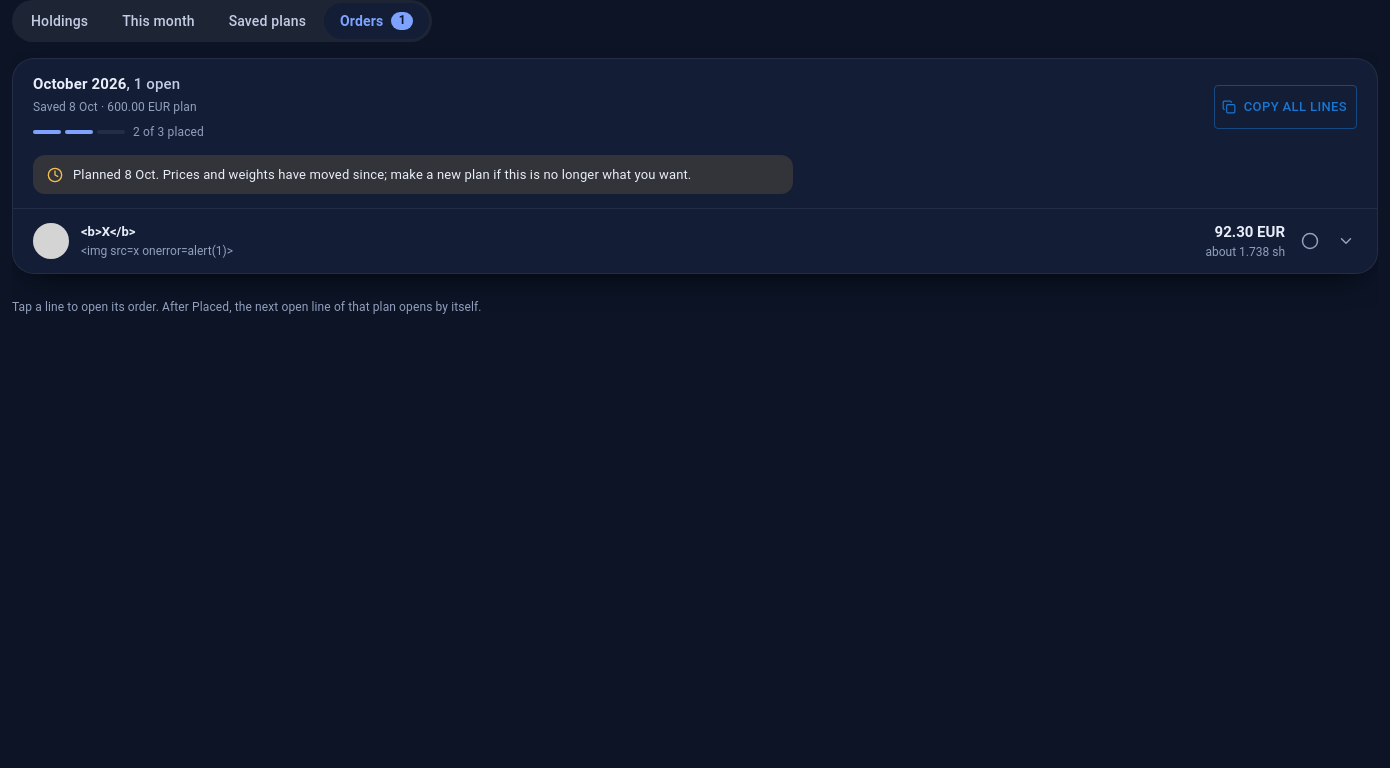
OrdersView › renders tickers, names and ISINs as plain text
The width and height of the screenshot is (1390, 768).
Click the button with aria-label "<b>X</b>, ".
click(51, 241)  # box [13,209,1377,273]
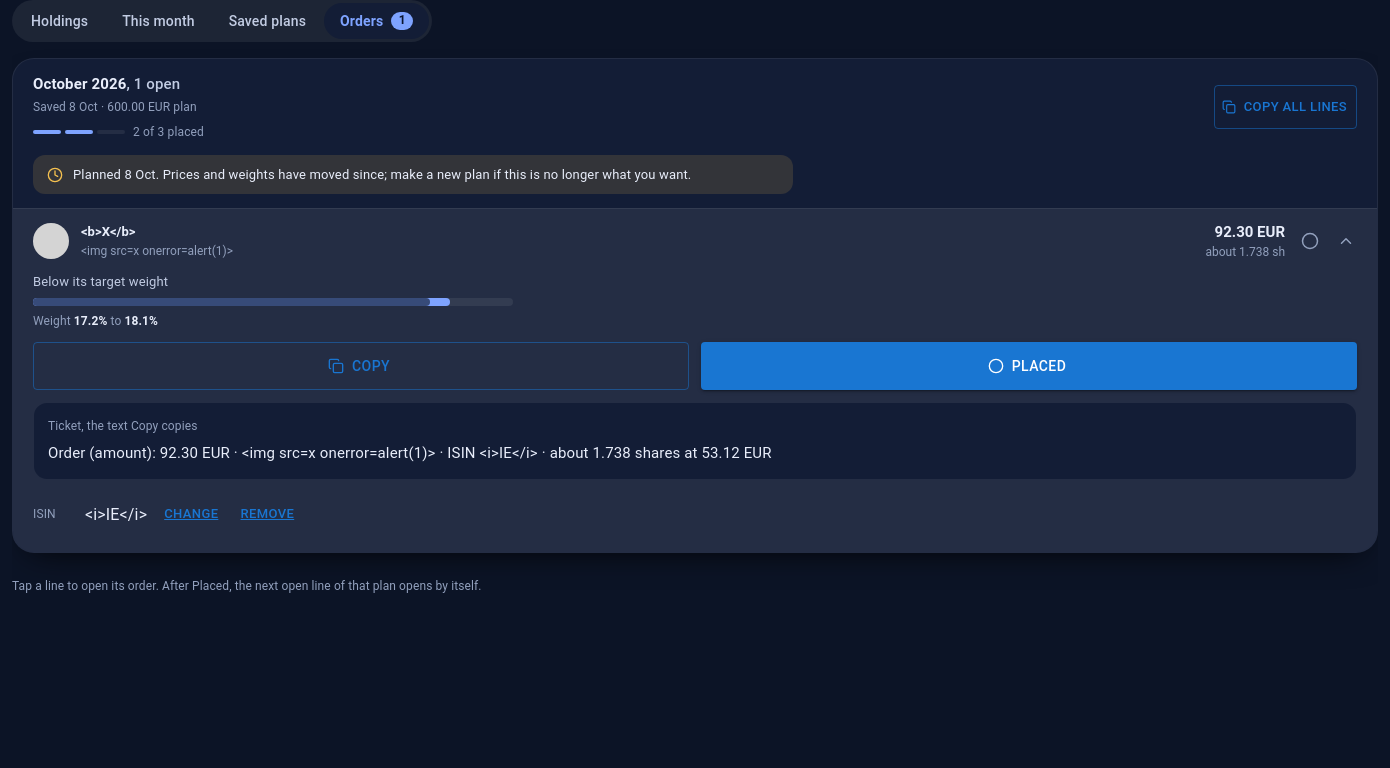
Expected: the text "<img src=x onerror=alert(1)>" is shown, [81,242,233,260]
Now the text "· ISIN <i>IE</i> ·" is shown, box [48,444,772,462]
